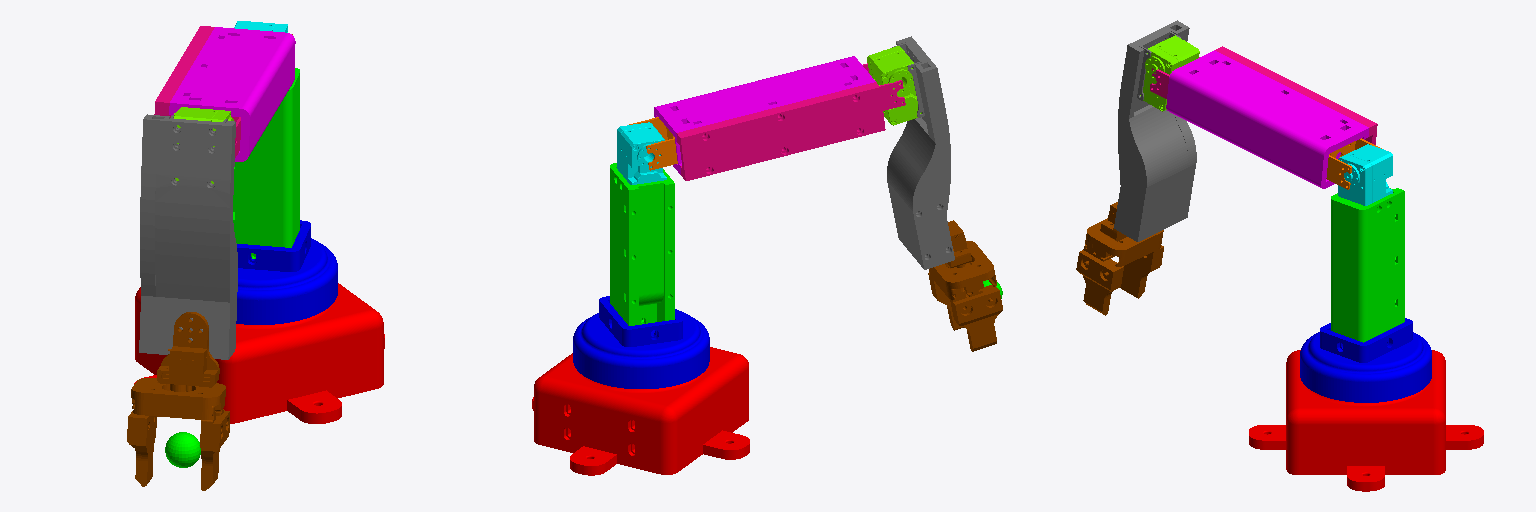
The robot description file, URDF, robot "3DoF_RRR_Robot_Arm":
<?xml version="1.0"?>
<robot name="3DoF_RRR_Robot_Arm">

  <material name="Red"><color rgba="1.0 0.0 0.0 1.0"/></material>
  <material name="Green"><color rgba="0.0 1.0 0.0 1.0"/></material>
  <material name="Blue"><color rgba="0.0 0.0 1.0 1.0"/></material>
  <material name="Yellow"><color rgba="1.0 1.0 0.0 1.0"/></material>
  <material name="Cyan"><color rgba="0.0 1.0 1.0 1.0"/></material>
  <material name="Magenta"><color rgba="1.0 0.0 1.0 1.0"/></material>
  <material name="Orange"><color rgba="1.0 0.5 0.0 1.0"/></material>
  <material name="Lime"><color rgba="0.5 1.0 0.0 1.0"/></material>
  <material name="Pink"><color rgba="1.0 0.07 0.57 1.0"/></material>
  <material name="Brown"><color rgba="0.6 0.3 0.0 1.0"/></material>
  <material name="Grey"><color rgba="0.5 0.5 0.5 1.0"/></material>

  <link name="world"/>

  <joint name="world_to_base" type="fixed">
    <parent link="world"/>
    <child link="base_link"/>
    <origin xyz="0 0 0" rpy="3.14159 0 0"/>
  </joint>

  <link name="base_link">
    <visual>
      <origin xyz="0 0 0" rpy="0 0 0"/>
      <geometry><mesh filename="package://3DoF_RRR_Robot_Arm_description/meshes/base_part2.stl" scale="0.001 0.001 0.001"/></geometry>
      <material name="Red"/>
    </visual>
    <collision>
      <origin xyz="0 0 0" rpy="0 0 0"/>
      <geometry><mesh filename="package://3DoF_RRR_Robot_Arm_description/meshes/base_part2.stl" scale="0.001 0.001 0.001"/></geometry>
    </collision>
  </link>

  <joint name="joint1" type="revolute">
    <parent link="base_link"/>
    <child link="link1"/>
    <origin xyz="-0.0625 -0.0627 -0.2274" rpy="0 0 0"/>
    <axis xyz="0 0 1"/> 
    <limit lower="-2.268" upper="2.268" effort="10.0" velocity="1.0"/>
  </joint>

  <link name="link1">
    <visual> 
      <origin xyz="0.0625 0.0627 0.2274" rpy="0 0 0"/>
      <geometry><mesh filename="package://3DoF_RRR_Robot_Arm_description/meshes/base_part1.stl" scale="0.001 0.001 0.001"/></geometry>
      <material name="Blue"/>
    </visual>
    <visual> 
      <origin xyz="0.0625 0.0627 0.2274" rpy="0 0 0"/>
      <geometry><mesh filename="package://3DoF_RRR_Robot_Arm_description/meshes/base_link.stl" scale="0.001 0.001 0.001"/></geometry>
      <material name="Green"/>
    </visual>
    <visual> 
      <origin xyz="0.0625 0.0627 0.2274" rpy="0 0 0"/>
      <geometry><mesh filename="package://3DoF_RRR_Robot_Arm_description/meshes/rulman.stl" scale="0.001 0.001 0.001"/></geometry>
      <material name="Yellow"/>
    </visual>
    <visual> 
      <origin xyz="0.0625 0.0627 0.2274" rpy="0 0 0"/>
      <geometry><mesh filename="package://3DoF_RRR_Robot_Arm_description/meshes/servo_1.stl" scale="0.001 0.001 0.001"/></geometry>
      <material name="Cyan"/>
    </visual>
  </link>

  <joint name="joint2" type="revolute">
    <parent link="link1"/>
    <child link="link2"/>
    <origin xyz="0 0 -0.0099" rpy="0 0 0"/>
    <axis xyz="-0.6534 -0.5970 0.0"/>
    <limit lower="0" upper="1.57" effort="10.0" velocity="1.0"/>
  </joint>

  <link name="link2">
    <visual> 
      <origin xyz="0.0625 0.0627 0.2383" rpy="0 0 0"/>
      <geometry><mesh filename="package://3DoF_RRR_Robot_Arm_description/meshes/link_1.stl" scale="0.001 0.001 0.001"/></geometry>
      <material name="Magenta"/>
    </visual>
    <visual> 
      <origin xyz="0.0625 0.0627 0.2383" rpy="0 0 0"/>
      <geometry><mesh filename="package://3DoF_RRR_Robot_Arm_description/meshes/metal_part_servo2.stl" scale="0.001 0.001 0.001"/></geometry>
      <material name="Orange"/>
    </visual>
    <visual> 
      <origin xyz="0.0625 0.0627 0.2383" rpy="0 0 0"/>
      <geometry><mesh filename="package://3DoF_RRR_Robot_Arm_description/meshes/link_2_cover.stl" scale="0.001 0.001 0.001"/></geometry>
      <material name="Pink"/>
    </visual>
    <visual> 
      <origin xyz="0.0625 0.0627 0.2383" rpy="0 0 0"/>
      <geometry><mesh filename="package://3DoF_RRR_Robot_Arm_description/meshes/link_sonu_Servo.stl" scale="0.001 0.001 0.001"/></geometry>
      <material name="Pink"/>
    </visual>
  </link>

  <joint name="joint3" type="revolute">
    <parent link="link2"/>
    <child link="link3"/>
    <origin xyz="-0.1322 0.1533 -0.0337" rpy="0 0 0"/> 
    <axis xyz="-0.6534 -0.5570 0"/>
    <limit lower="0" upper="1.57" effort="10.0" velocity="1.0"/>
  </joint>

  <link name="link3">
    <visual> 
      <origin xyz="0.1947 -0.0906 0.2627" rpy="0 0 0"/> 
      <geometry><mesh filename="package://3DoF_RRR_Robot_Arm_description/meshes/servo_2.stl" scale="0.001 0.001 0.001"/></geometry>
      <material name="Lime"/>
    </visual>
  </link>

  <joint name="gripper_joint" type="fixed">
    <parent link="link3"/>
    <child link="gripper_link"/>
    <origin xyz="0 0 0" rpy="0 0 0"/>
  </joint>

  <link name="gripper_link">
    <visual> 
      <origin xyz="0.1947 -0.0906 0.2627" rpy="0 0 0"/>
      <geometry><mesh filename="package://3DoF_RRR_Robot_Arm_description/meshes/gripper.stl" scale="0.001 0.001 0.001"/></geometry>
      <material name="Brown"/>
    </visual>
    <visual> 
      <origin xyz="0.1947 -0.0906 0.2627" rpy="0 0 0"/>
      <geometry><mesh filename="package://3DoF_RRR_Robot_Arm_description/meshes/kapak_new.stl" scale="0.001 0.001 0.001"/></geometry>
      <material name="Grey"/>
    </visual>
  </link>

  <joint name="tool_tip_joint" type="fixed">
    <parent link="gripper_link"/>
    <child link="tool_tip"/>
    <origin xyz="-0.05 0.06 0.2" rpy="0 0 0"/>
  </joint>

  <link name="tool_tip">
    <visual>
      <geometry><sphere radius="0.012"/></geometry>
      <material name="Green"/>
    </visual>
  </link>

  <!-- ROS2 CONTROL TAGS -->
  <ros2_control name="FakeSystem" type="system">
    <hardware>
      <plugin>mock_components/GenericSystem</plugin>
    </hardware>
    <joint name="joint1">
      <command_interface name="position"/>
      <state_interface name="position"/>
      <state_interface name="velocity"/>
    </joint>
    <joint name="joint2">
      <command_interface name="position"/>
      <state_interface name="position"/>
      <state_interface name="velocity"/>
    </joint>
    <joint name="joint3">
      <command_interface name="position"/>
      <state_interface name="position"/>
      <state_interface name="velocity"/>
    </joint>
  </ros2_control>

</robot>

--- Facts derived from the render (not from the file) ---
3 views of the same robot in one strip: view 1: azimuth 30°, elevation 25°; view 2: azimuth 150°, elevation 25°; view 3: azimuth 270°, elevation 25° (orthographic).
Robot: 3DoF_RRR_Robot_Arm — 7 links, 6 joints (3 revolute, 3 fixed); root link world; default pose: every joint at zero.
Visible links, largest first — view 1: gripper_link, base_link, link1, link2, tool_tip, link3; view 2: link1, base_link, link2, gripper_link, link3; view 3: link1, gripper_link, link2, base_link, link3.
Boxes of the visible links, x1,y1,x2,y2 form: gripper_link: (127, 114, 237, 490); base_link: (134, 283, 384, 423); link1: (233, 21, 337, 324); link2: (154, 26, 295, 161); tool_tip: (165, 432, 200, 467); link3: (174, 107, 233, 183); link1: (573, 122, 709, 388); base_link: (532, 347, 749, 475); link2: (629, 56, 905, 180); gripper_link: (887, 36, 1002, 351); link3: (867, 46, 921, 125); link1: (1300, 144, 1431, 402); gripper_link: (1076, 20, 1196, 315); link2: (1150, 46, 1381, 189); base_link: (1249, 350, 1483, 491); link3: (1140, 35, 1199, 111).
Size in the robot's own frame: 0.3035 by 0.3222 by 0.2857 metres.
Meshes: 12 distinct files referenced, 12 mesh visuals loaded (12 binary STL).
